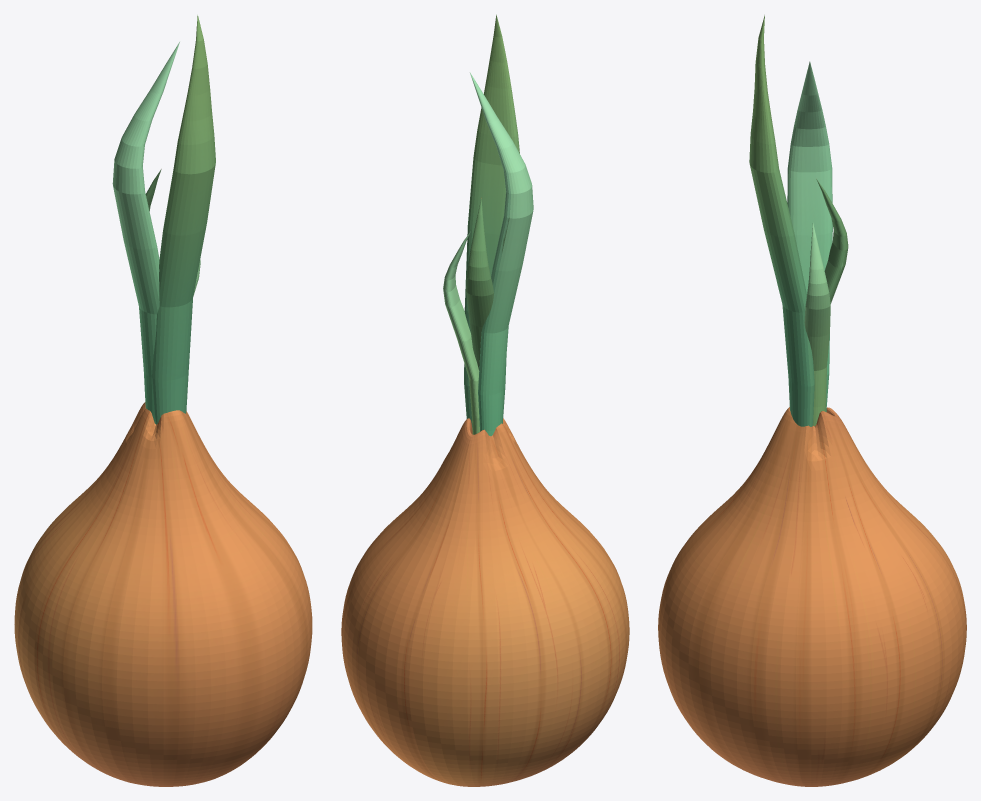
File: onion_sprouting.glb
The picture shows the model from 3 angles, left to right: view 1: azimuth 30°, elevation 25°; view 2: azimuth 150°, elevation 25°; view 3: azimuth 270°, elevation 25°; orthographic projection. The views are drawn at different scales.
Parts seen in each view (by area): view 1: Object_2; view 2: Object_2; view 3: Object_2.
Boxes of the visible parts, x1,y1,x2,y2 form: Object_2: (14, 15, 312, 786); Object_2: (341, 14, 629, 786); Object_2: (658, 15, 966, 786).
Size of the model in its own units: 1.79 by 5.09 by 1.86.
1 material, 1 textured.
